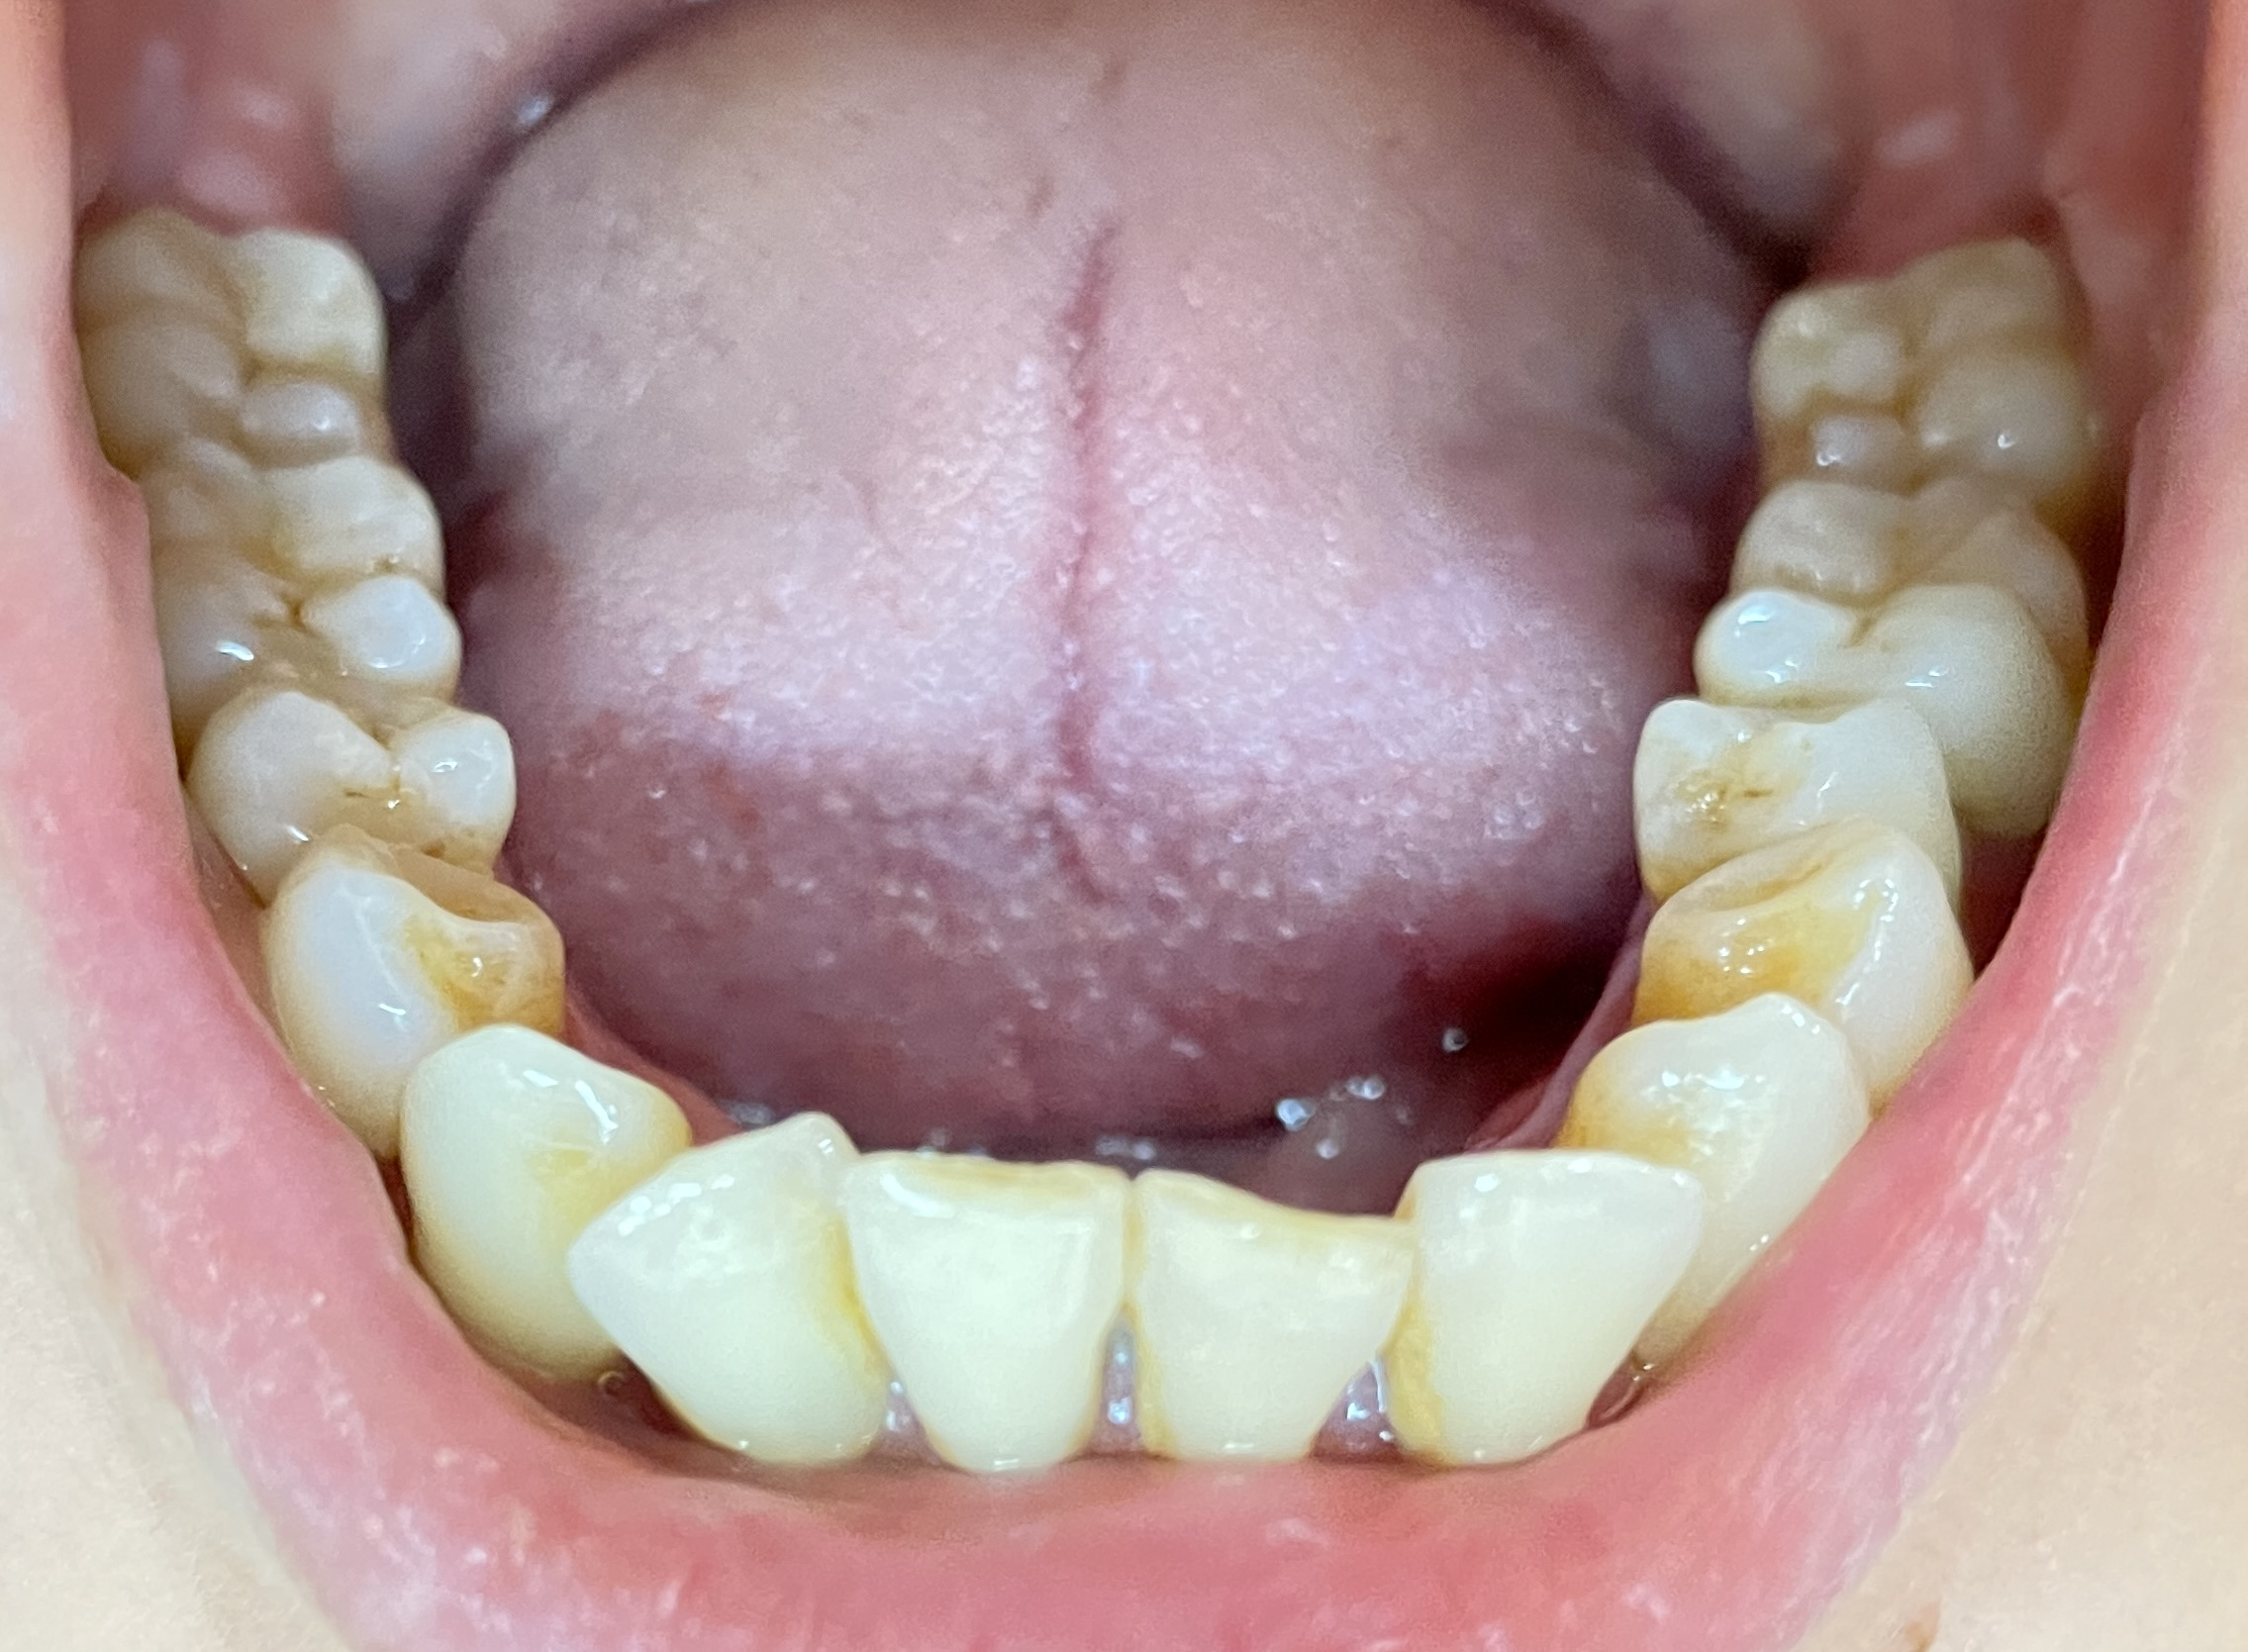teeth: (593, 1137, 866, 1450), (1728, 497, 2046, 738), (1152, 1193, 1393, 1451), (1447, 1181, 1669, 1444), (1784, 242, 2044, 452), (1613, 1022, 1845, 1254), (880, 1178, 1082, 1422), (1702, 839, 1957, 1019), (147, 223, 368, 419), (188, 469, 422, 651), (1674, 707, 1936, 827), (257, 680, 478, 818), (337, 869, 538, 1019), (422, 1061, 593, 1225)
